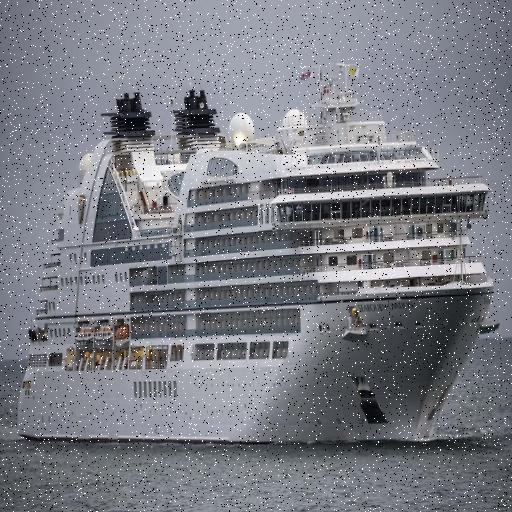cruises: (16, 63, 503, 459)
